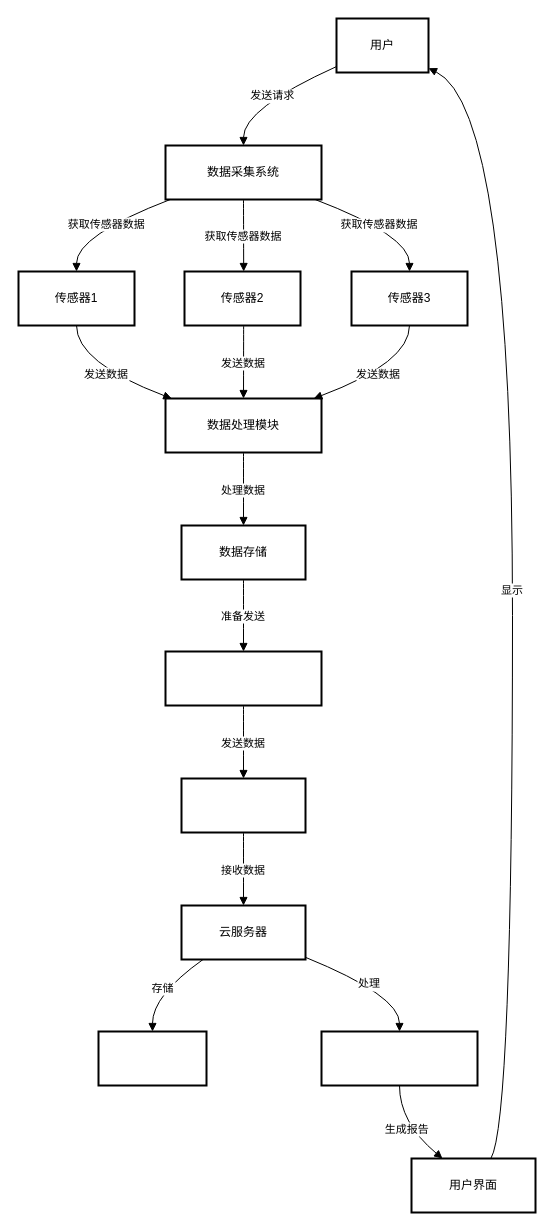
This 553x1230 diagram has some shape labels left out. The centre of each missing label's shape, as x and y in pixels:
数据分析模块: the point at 399,1058
数据库: the point at 152,1058
无线发送模块: the point at 243,678
无线网络: the point at 243,805
